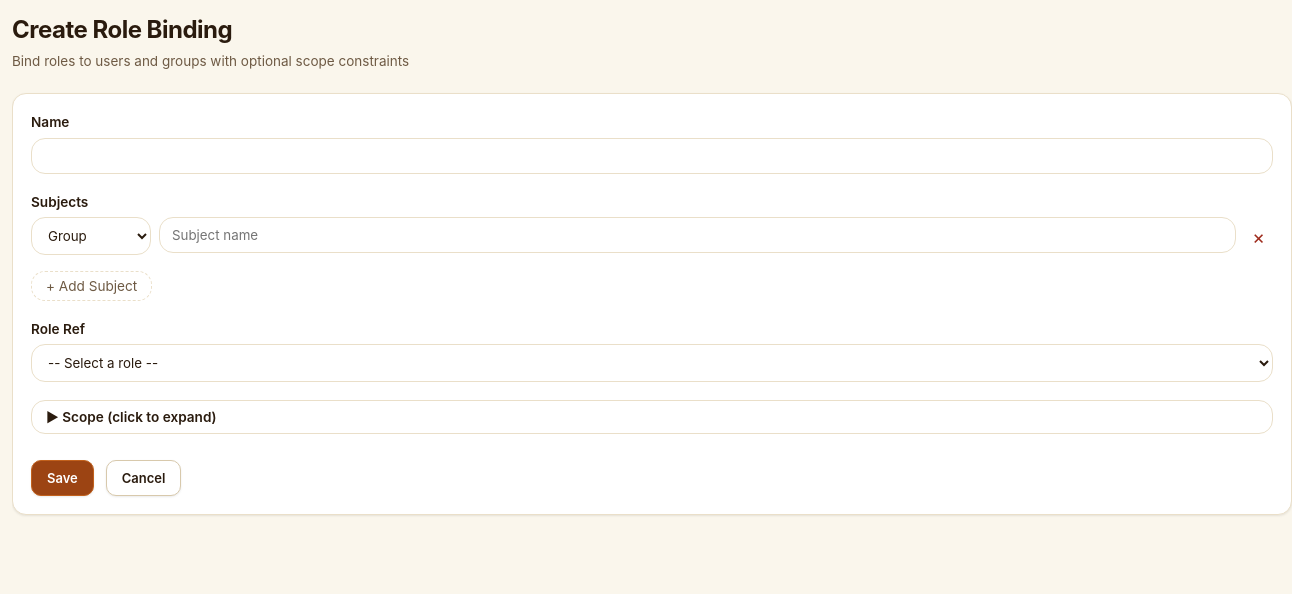
it: RoleBindingForm — create mode › shows the conflict message on a create over an existing name
The width and height of the screenshot is (1292, 594).
Expected: the text "Create Role Binding" is shown, [12,15,232,44]
Type "fail-binding" into the 1st field at [652, 156], box [31,138,1273,174]
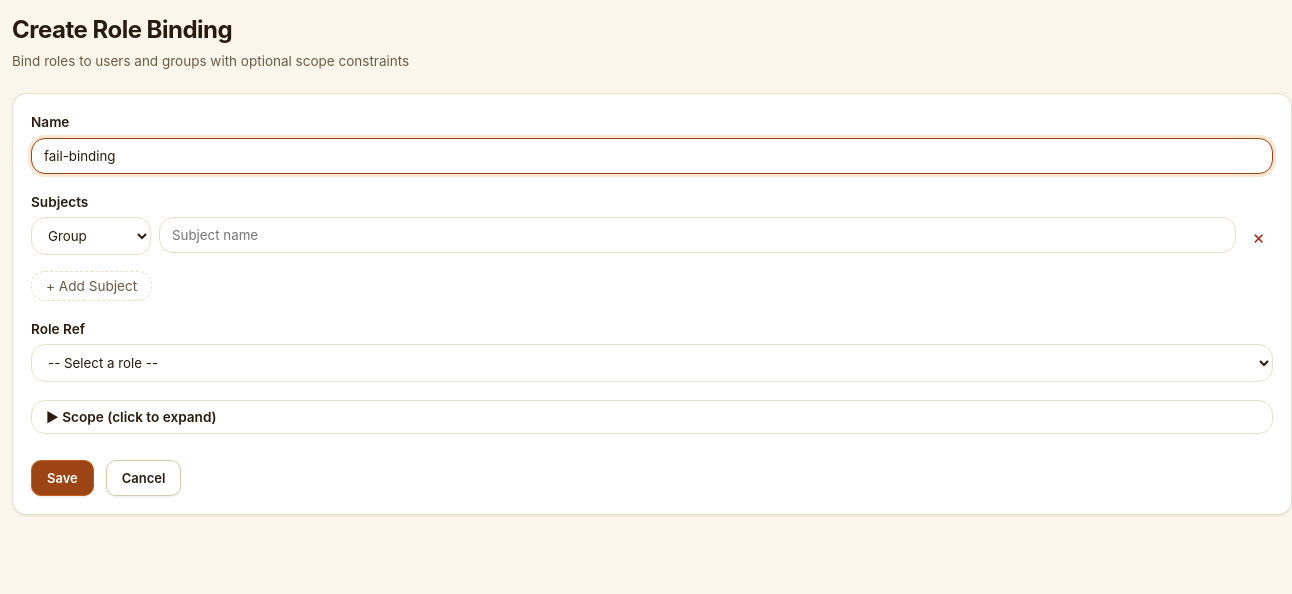
# Fill required fields so form submits
Type "test-user" into the field with placeholder "Subject name" at [698, 235], box [159,217,1236,253]
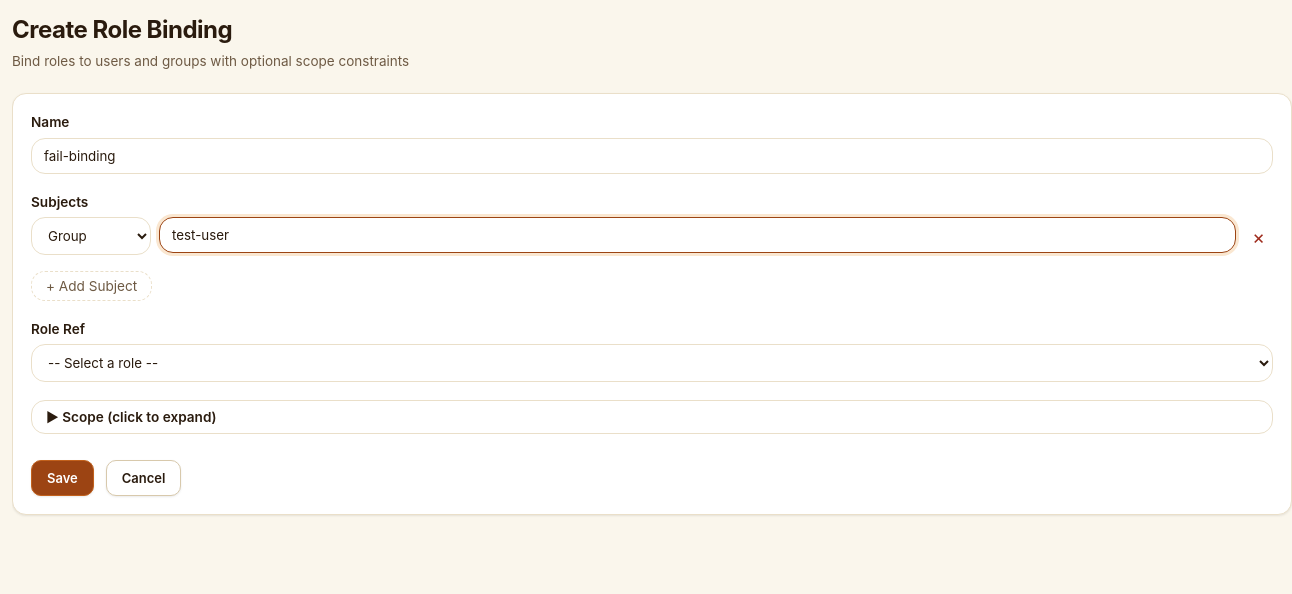
Select "varroa:admin" in the dropdown below "Role Ref" at [652, 363], box [31,344,1273,382]
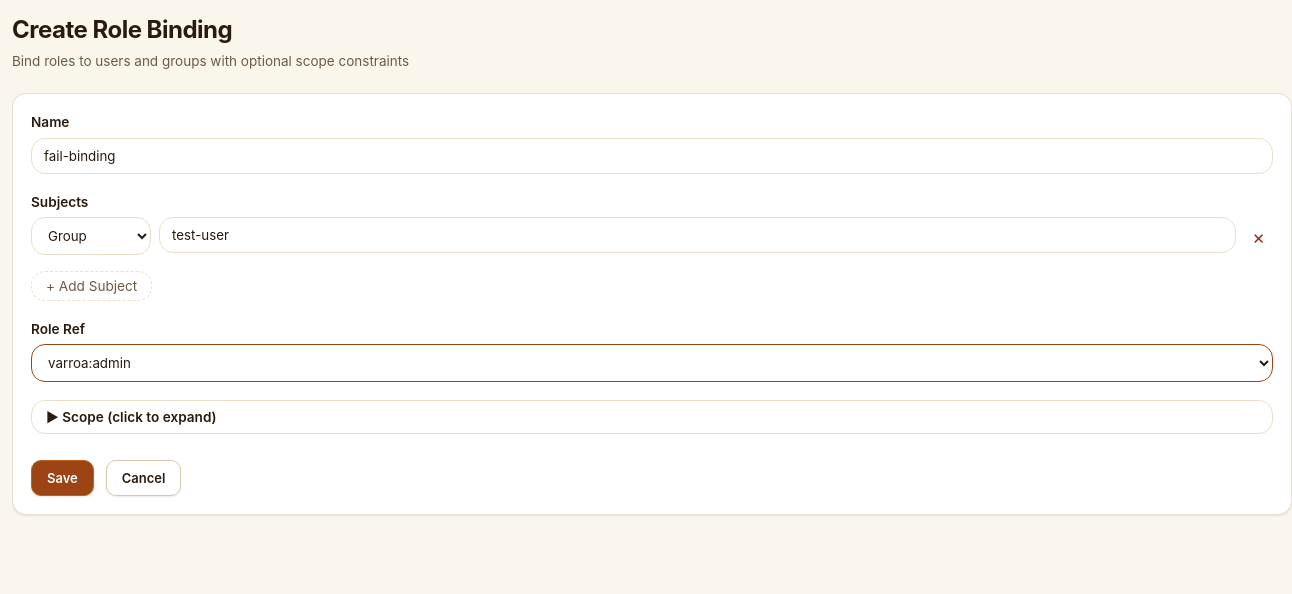
Click the button "Save" at [62, 478], box [31,460,94,496]
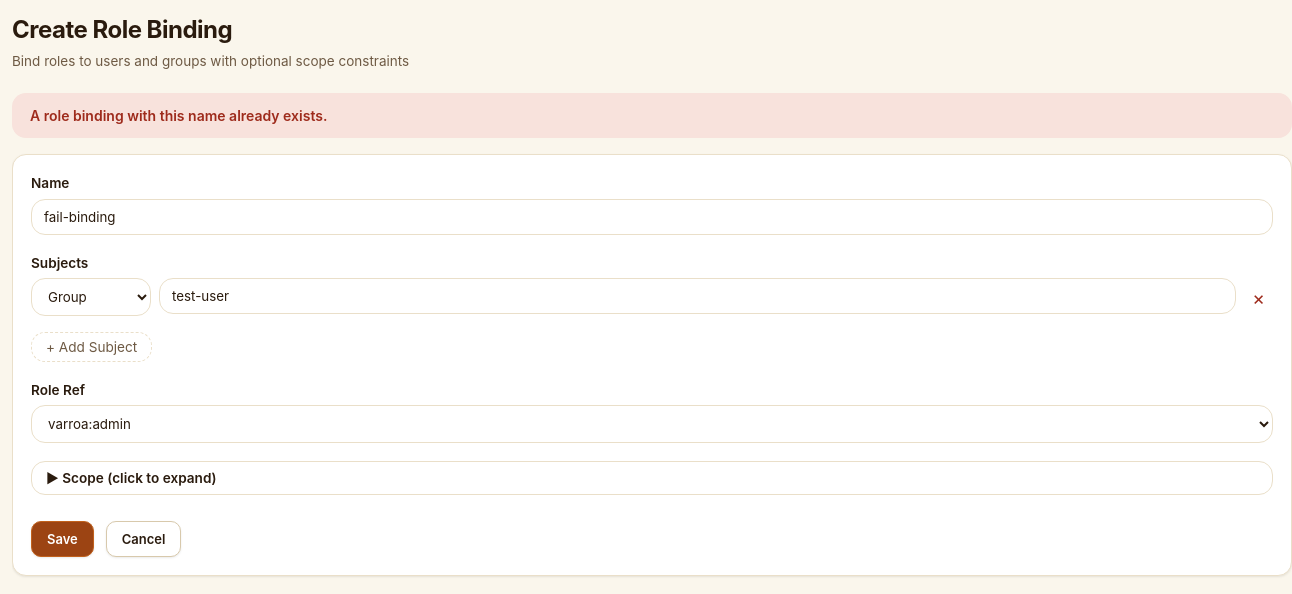
Expected: the text "A role binding with this name already exists." is shown, [12,93,1291,138]
